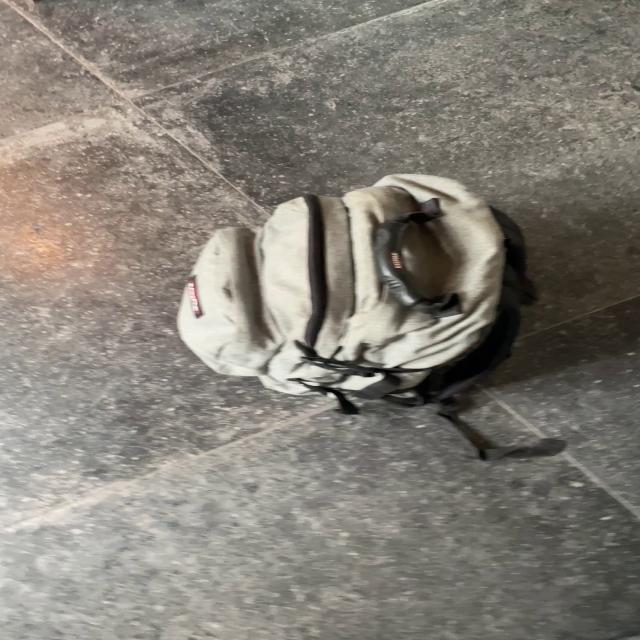backpack: (162, 164, 550, 412)
